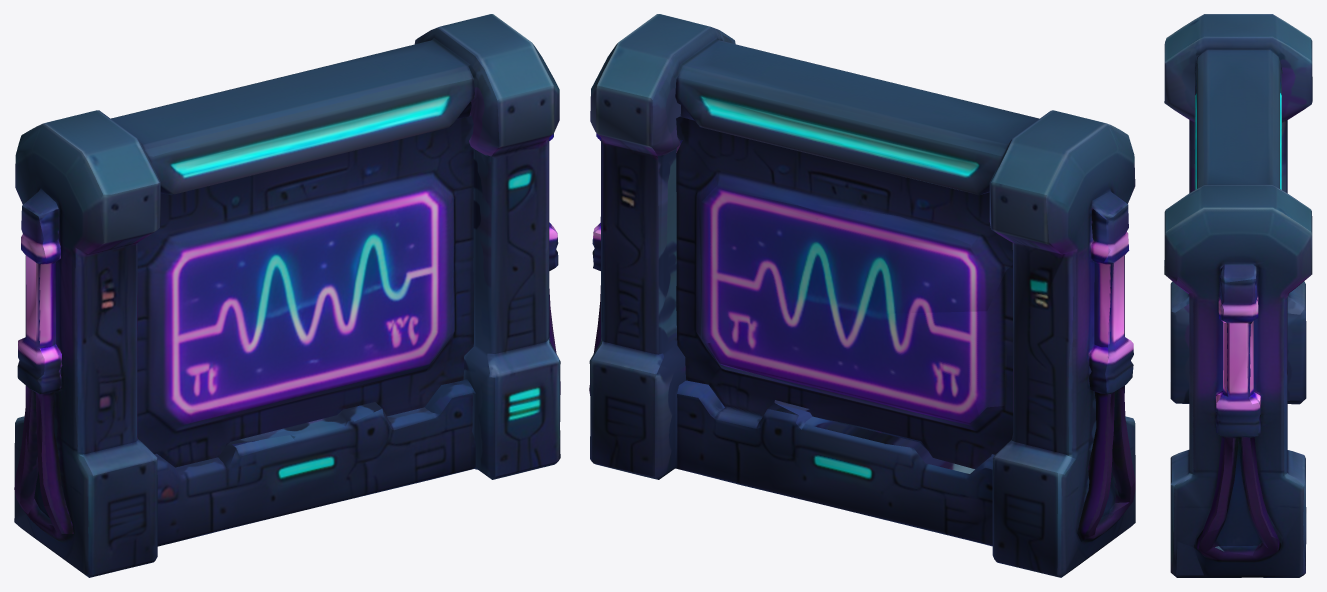
File: NewBG7.fbx
3 renders of one model, left to right at view 1: azimuth 30°, elevation 25°; view 2: azimuth 150°, elevation 25°; view 3: azimuth 270°, elevation 25°, orthographic. The views are drawn at different scales.
Parts seen in each view (by area): view 1: tmpb_wxv83z.ply; view 2: tmpb_wxv83z.ply; view 3: tmpb_wxv83z.ply.
Boxes of the visible parts, x1,y1,x2,y2 form: tmpb_wxv83z.ply: [14, 14, 560, 577]; tmpb_wxv83z.ply: [589, 14, 1135, 577]; tmpb_wxv83z.ply: [1164, 14, 1312, 577].
Bounding box in the file's own units: 199 × 151 × 55.19.
1 material, 1 textured.
